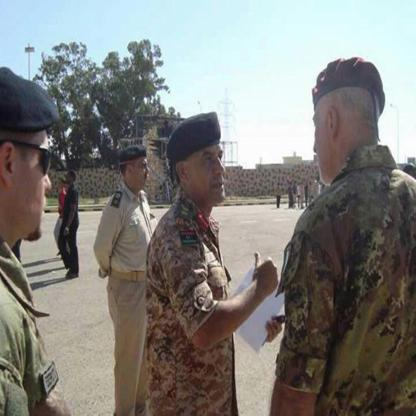face: (1, 124, 53, 241), (186, 140, 228, 203), (313, 94, 337, 184), (133, 155, 152, 189), (67, 172, 72, 183), (58, 181, 62, 190)
